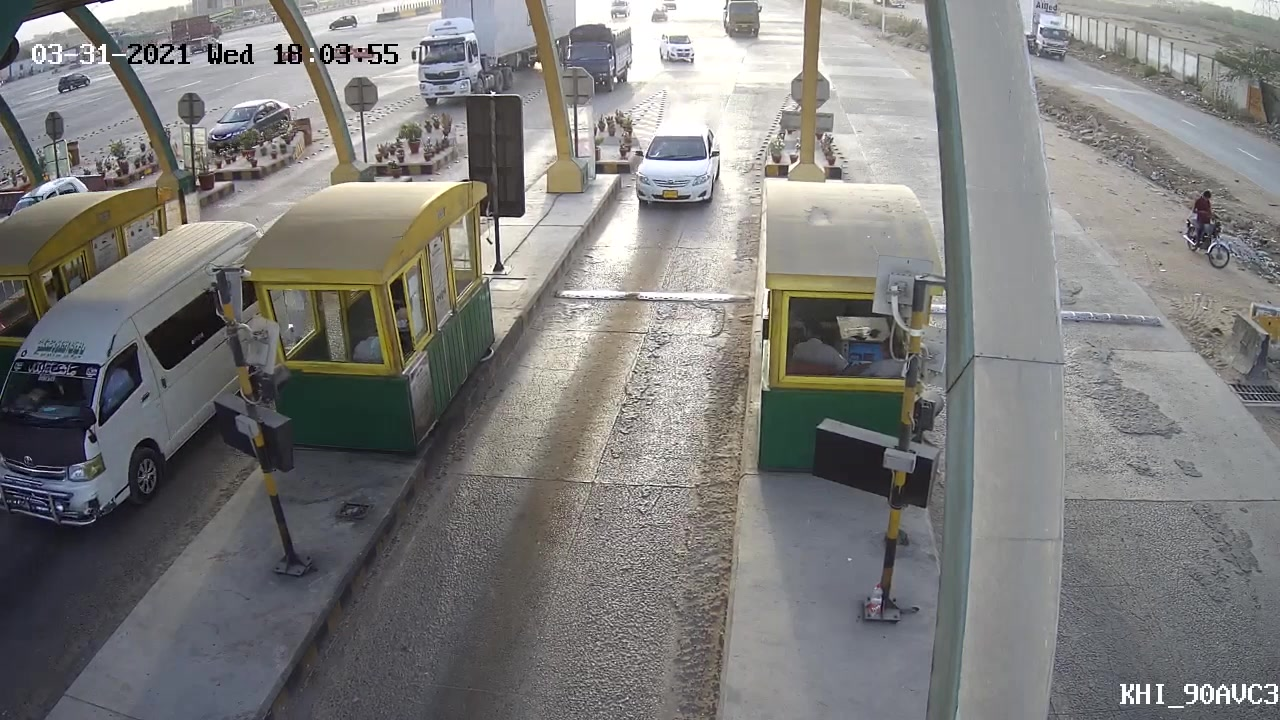F1: (620, 113, 730, 221)
